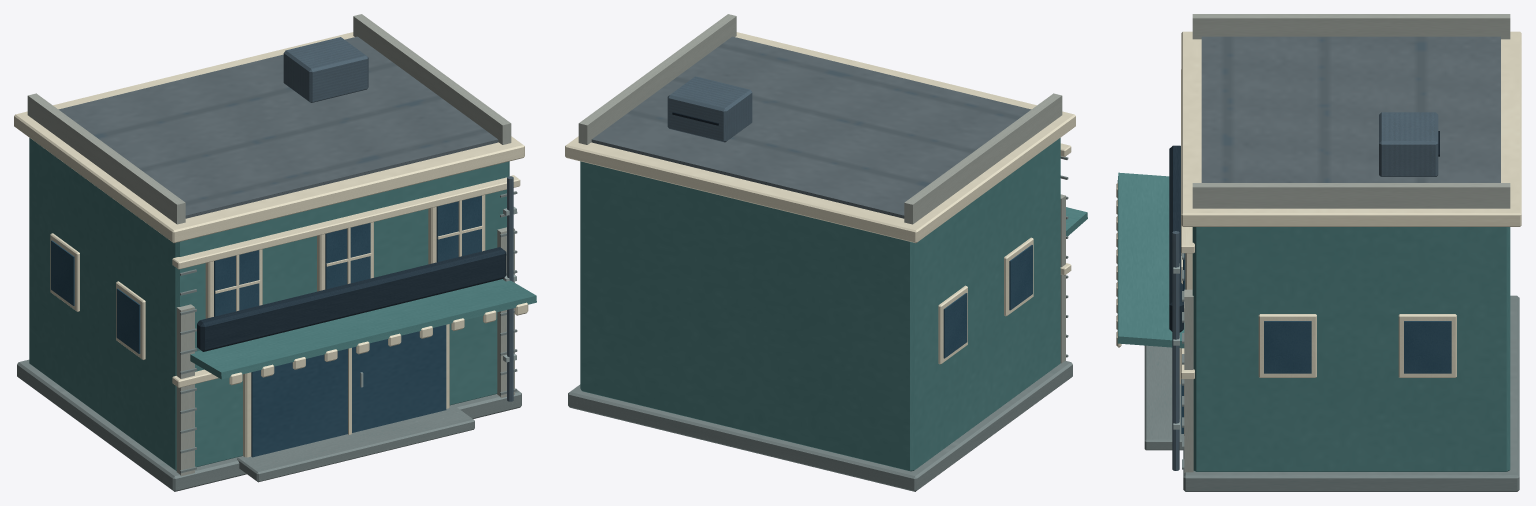
File: corner-store-intact.glb
3 renders of one model, left to right at view 1: azimuth 30°, elevation 25°; view 2: azimuth 150°, elevation 25°; view 3: azimuth 270°, elevation 25°, orthographic. The views are drawn at different scales.
Visible parts, largest first — view 1: corner-store-intact; view 2: corner-store-intact; view 3: corner-store-intact.
Part boxes in pixels (<box>): corner-store-intact: <box>14,14,536,491</box>; corner-store-intact: <box>565,14,1087,491</box>; corner-store-intact: <box>1116,14,1521,491</box>.
Size of the model in its own units: 6.54 by 5.31 by 6.12.
Materials: 3 (3 with a texture image).
